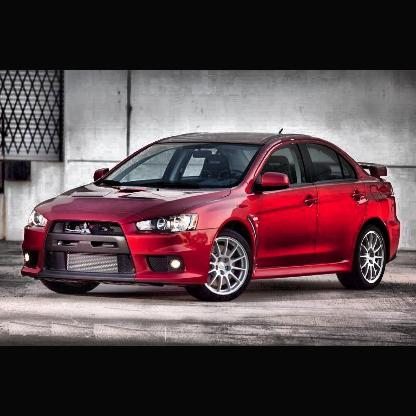Mitsubishi Lancer Sedan 2012: (23, 134, 403, 304)
